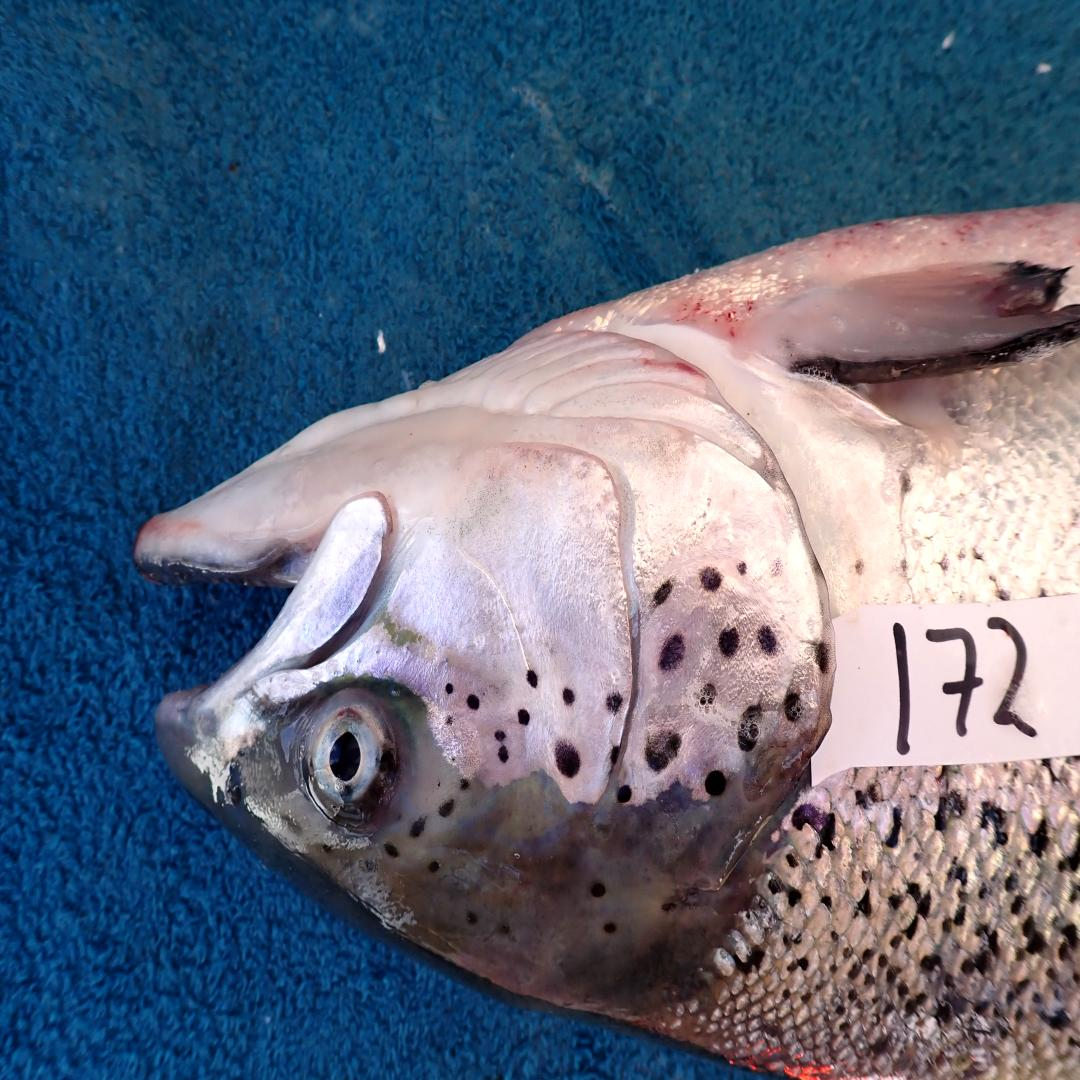roi: (391, 331, 835, 806)
